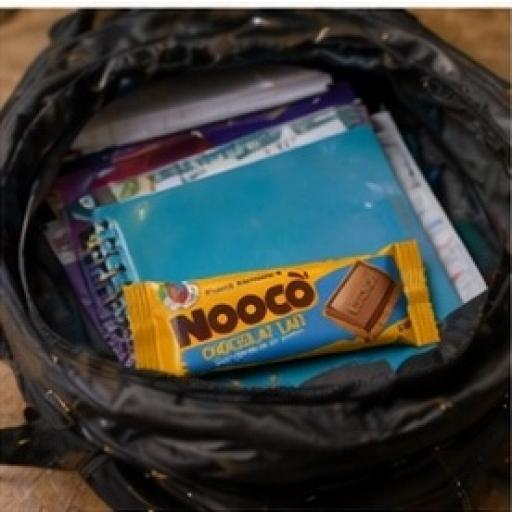biscuit-detection: (97, 241, 457, 403)
